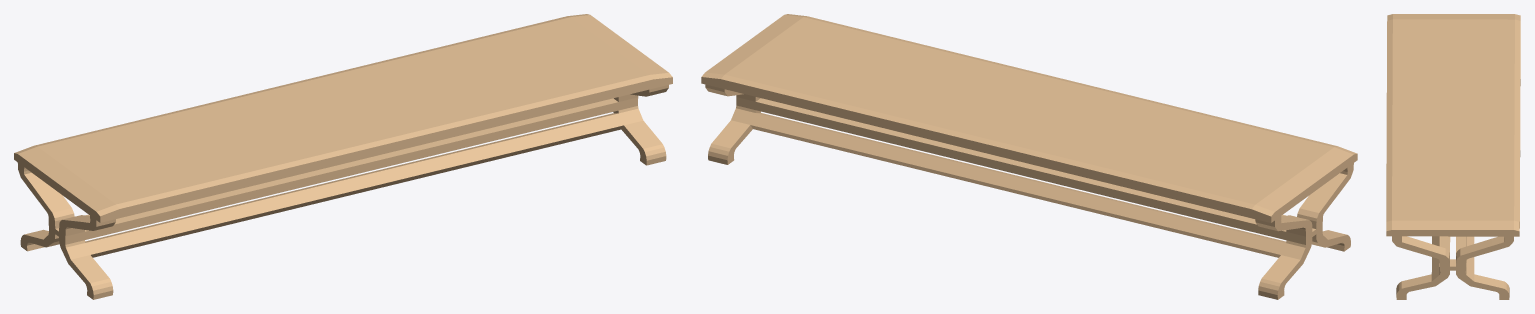
The model's file is Table4.fbx.
3 renders of one model, left to right at view 1: azimuth 30°, elevation 25°; view 2: azimuth 150°, elevation 25°; view 3: azimuth 270°, elevation 25°, orthographic. The views are drawn at different scales.
Visible parts, largest first — view 1: Table1; view 2: Table1; view 3: Table1.
Boxes of the visible parts, x1=… form: Table1: x1=14, y1=14, x2=672, y2=299; Table1: x1=701, y1=14, x2=1357, y2=299; Table1: x1=1386, y1=14, x2=1520, y2=299.
Bounding box in the file's own units: 8538 × 1326 × 2248.
